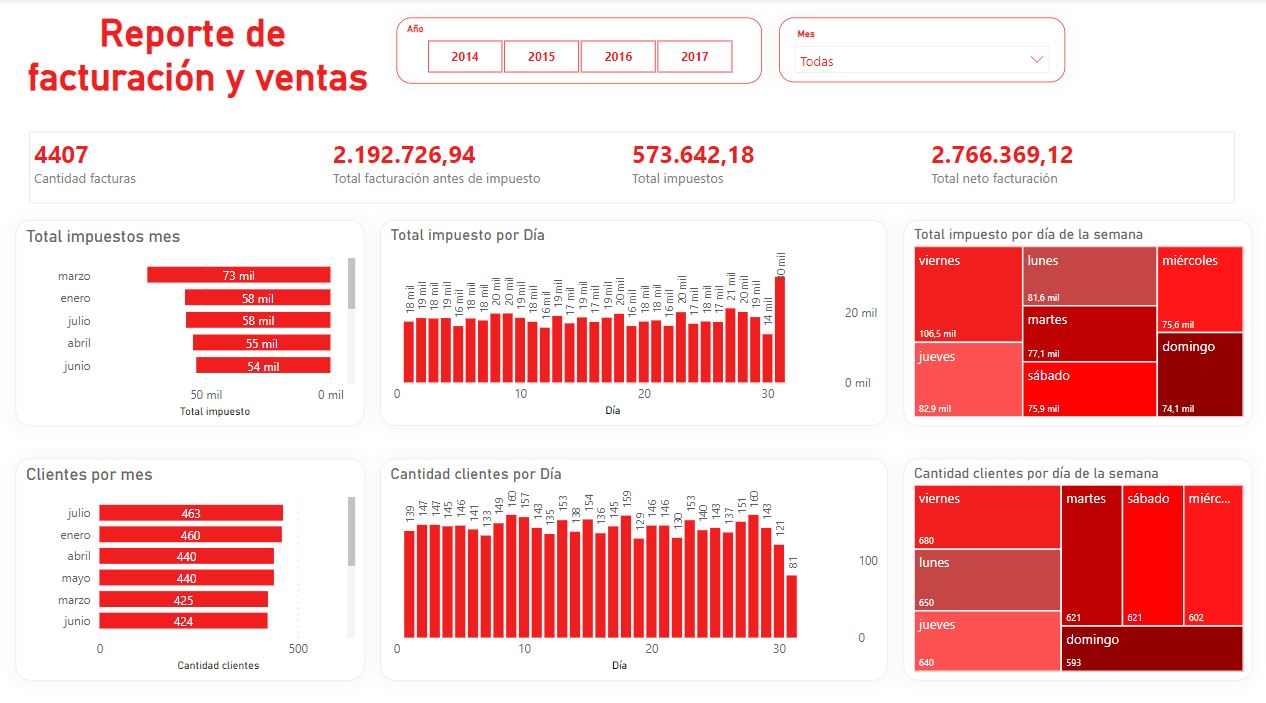

The page's visual inventory and layout, read from the dashboard file:
{"tool":"powerbi","page":{"name":"Impuestos y ventas","canvas":[1280,720],"ordinal":0},"visuals":[{"type":"multiRowCard","fields":{"Values":["Medidas.Cuenta Facturacion impuesto","Medidas.Total suma Facturacion sin impuesto","Medidas.Total suma impuesto","Medidas.Total suma Facturacion impuesto"]},"box":[30,135,1216.7,71.7],"z":0},{"type":"slicer","title":"Año","fields":{"Values":["TablaVentas.Año"]},"box":[401.7,20,368.3,66.7],"z":1000},{"type":"slicer","title":"Mes","fields":{"Values":["TablaVentas.Nombre del mes"]},"box":[786.7,20,288.3,65],"z":2000},{"type":"barChart","title":"Clientes por mes","fields":{"Category":["TablaVentas.Nombre del mes"],"Y":["Medidas.Cantidad clientes"]},"box":[16,464,352,224],"z":3000},{"type":"treemap","title":"Cantidad clientes por día de la semana","fields":{"Group":["TablaVentas.Nombre del día"],"Values":["Medidas.Cantidad clientes"]},"box":[912,464,352,224],"z":4000},{"type":"clusteredBarChart","title":"Total impuestos mes","fields":{"Category":["TablaVentas.Año","TablaVentas.Nombre del mes"],"Y":["Medidas.Total suma impuesto"]},"box":[16,224,352,208],"z":5000},{"type":"clusteredColumnChart","title":"Total impuesto por Día","fields":{"Category":["TablaVentas.Año","TablaVentas.Día"],"Y":["Medidas.Total suma impuesto"]},"box":[384.3,224.3,511.4,207.1],"z":6000},{"type":"treemap","title":"Total impuesto por día de la semana","fields":{"Values":["Medidas.Total suma impuesto"],"Group":["TablaVentas.Nombre del día"]},"box":[912,224,352,208],"z":7000},{"type":"clusteredColumnChart","fields":{"Category":["TablaVentas.Año","TablaVentas.Día"],"Y":["Medidas.Cantidad clientes"]},"box":[384,464,512,224],"z":8000},{"type":"textbox","box":[16,8,368,98],"z":10000}]}

Visuals, with their boxes in screenshot pixels (x1, y1, x2, y2), scaled from the page's 1280x720 canvas onto the 1266x703 screenshot:
multiRowCard - Medidas.Cuenta Facturacion impuesto x Medidas.Total suma Facturacion sin impuesto: [30, 132, 1233, 202]
"Año" slicer: [397, 20, 762, 85]
"Mes" slicer: [778, 20, 1063, 83]
"Clientes por mes" barChart: [16, 453, 364, 672]
"Cantidad clientes por día de la semana" treemap: [902, 453, 1250, 672]
"Total impuestos mes" clusteredBarChart: [16, 219, 364, 422]
"Total impuesto por Día" clusteredColumnChart: [380, 219, 886, 421]
"Total impuesto por día de la semana" treemap: [902, 219, 1250, 422]
clusteredColumnChart - TablaVentas.Año x TablaVentas.Día: [380, 453, 886, 672]
textbox: [16, 8, 380, 103]
